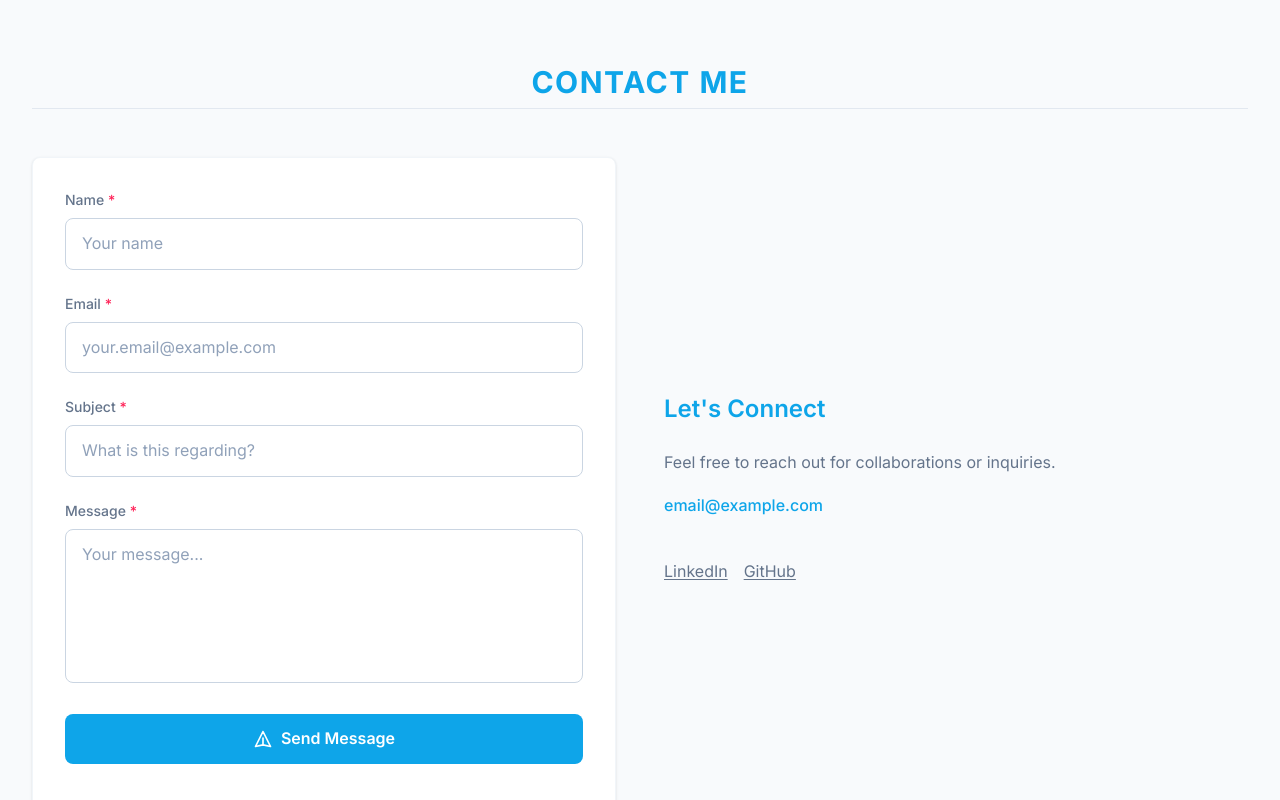
Test: ContactSection Component › shows error state after failed submission
Type "John Doe" into the field labelled "Name *" at (324, 244), box [65, 218, 583, 270]
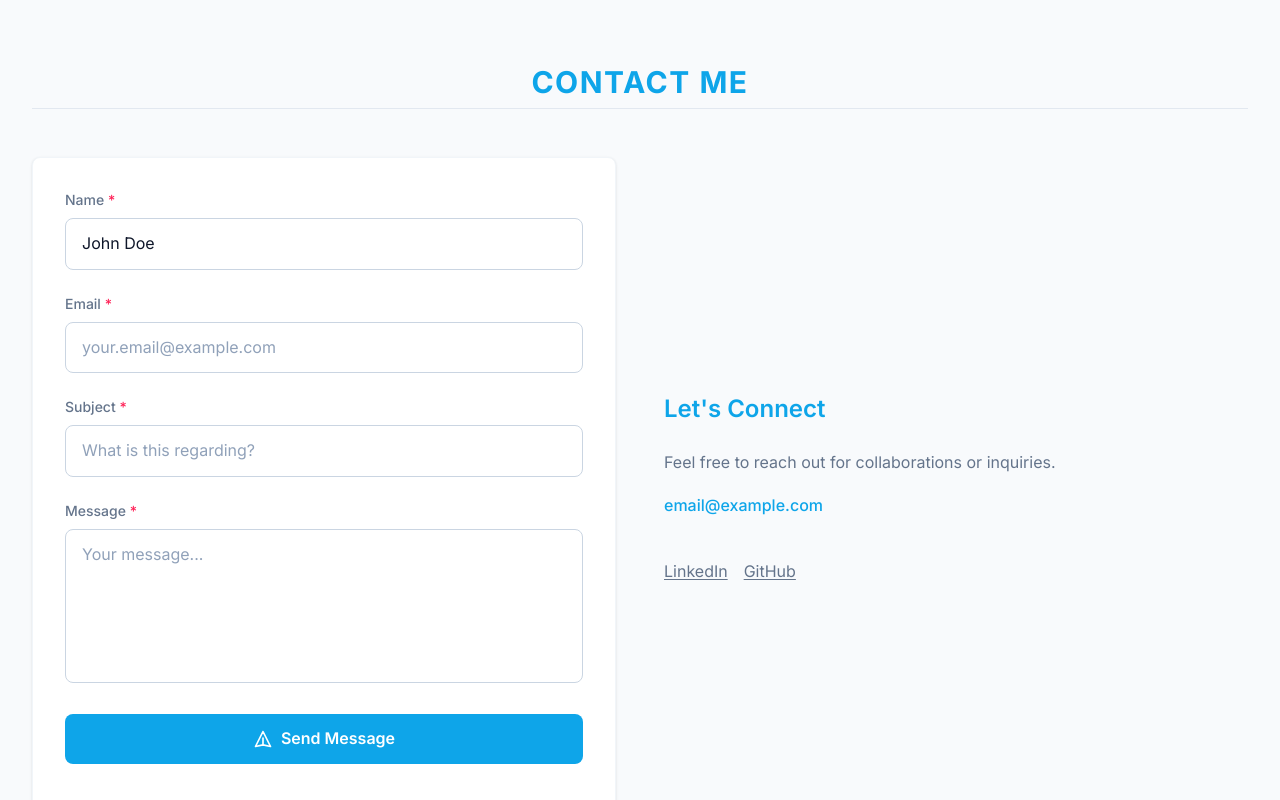
Type "john@example.com" into the field labelled "Email *" at (324, 347), box [65, 322, 583, 373]
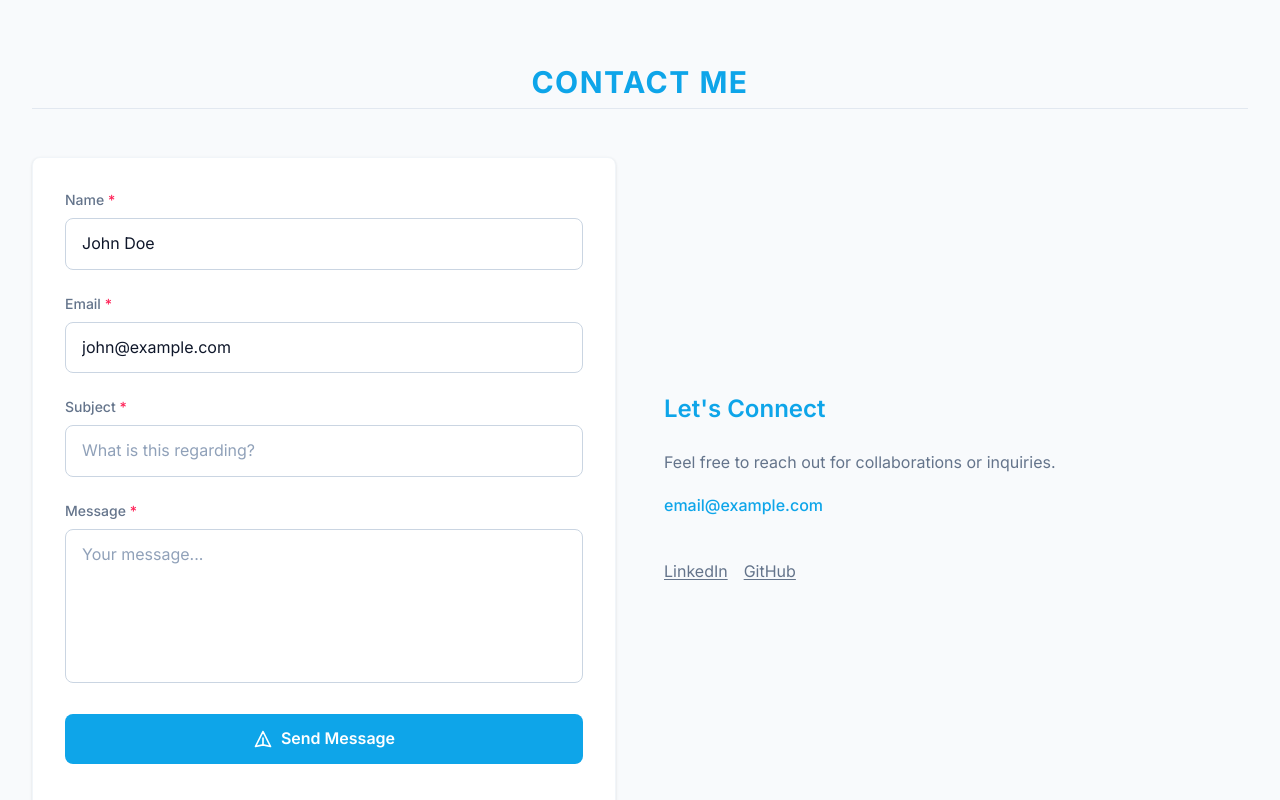
Type "Test" into the field labelled "Subject *" at (324, 451), box [65, 425, 583, 477]
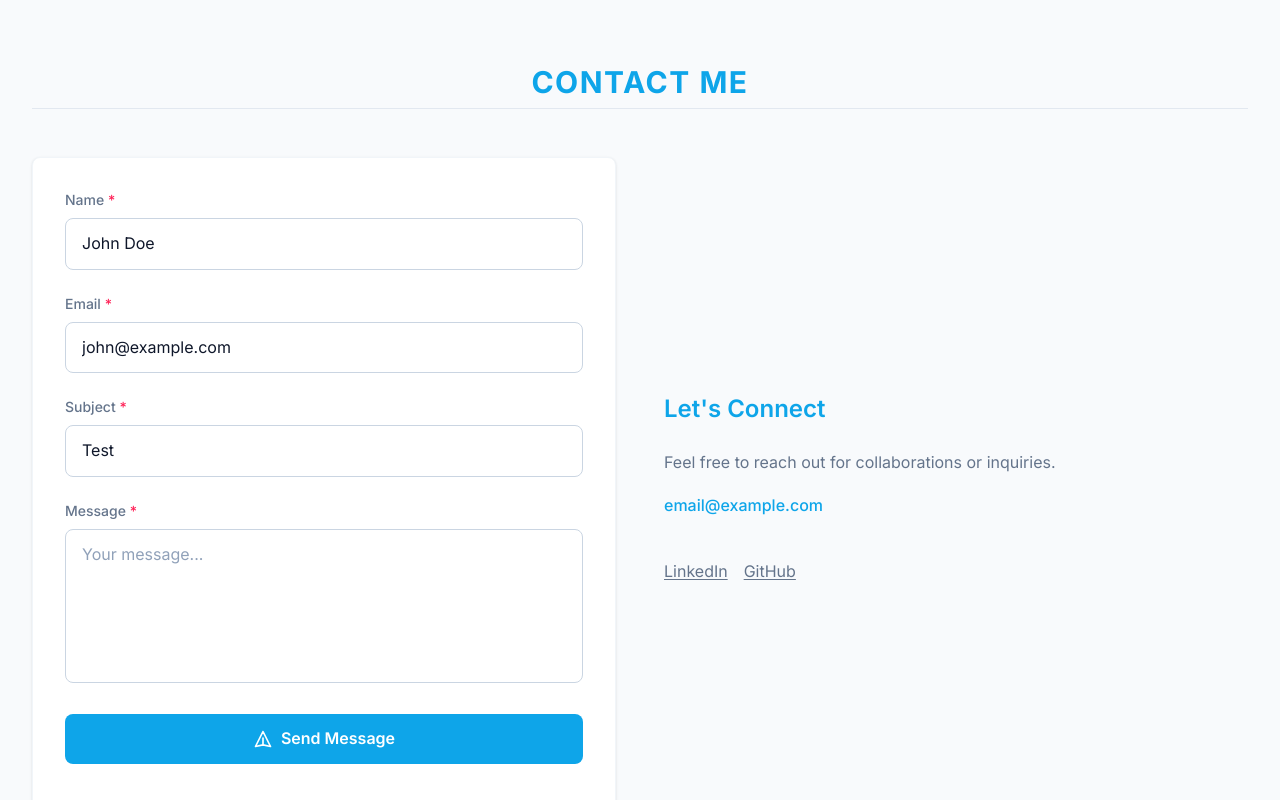
Type "Test message content" into the text box labelled "Message *" at (324, 606), box [65, 529, 583, 683]
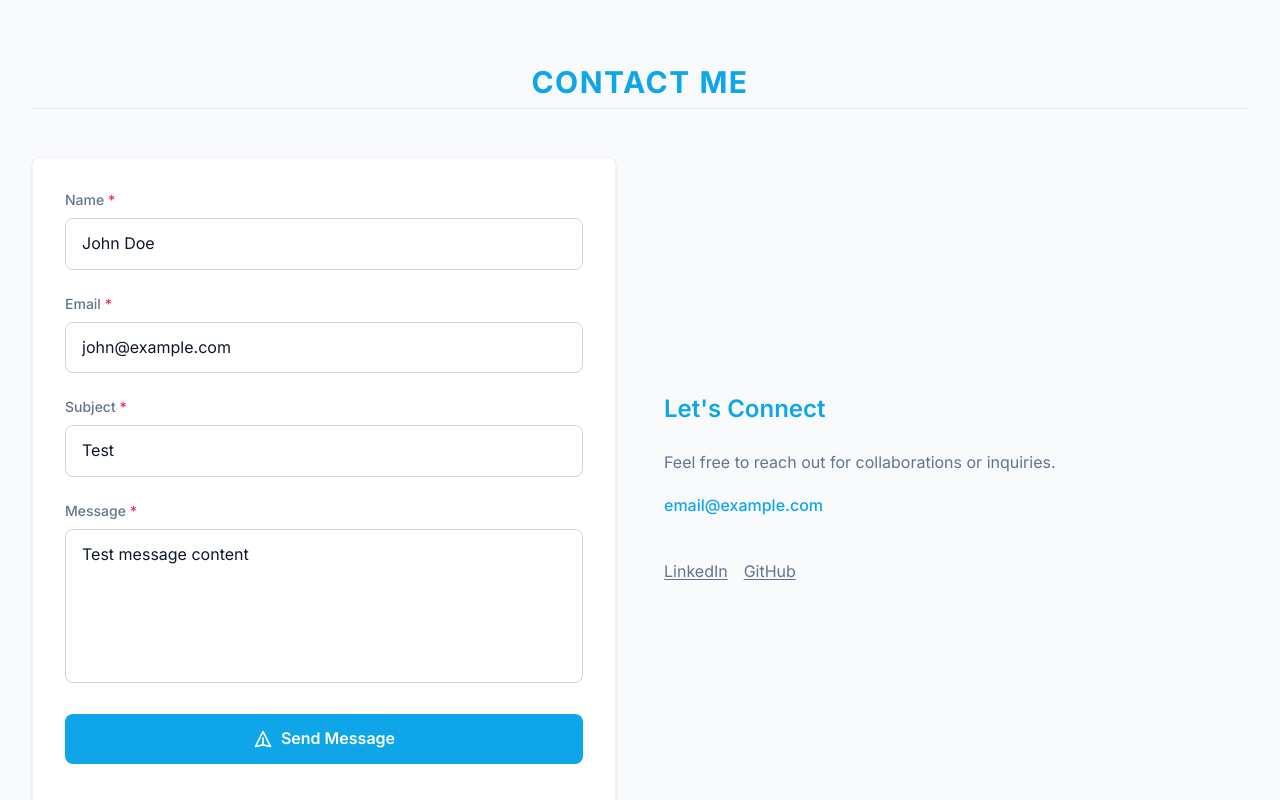
Click the button "Send Message" at (324, 739), box [65, 714, 583, 764]
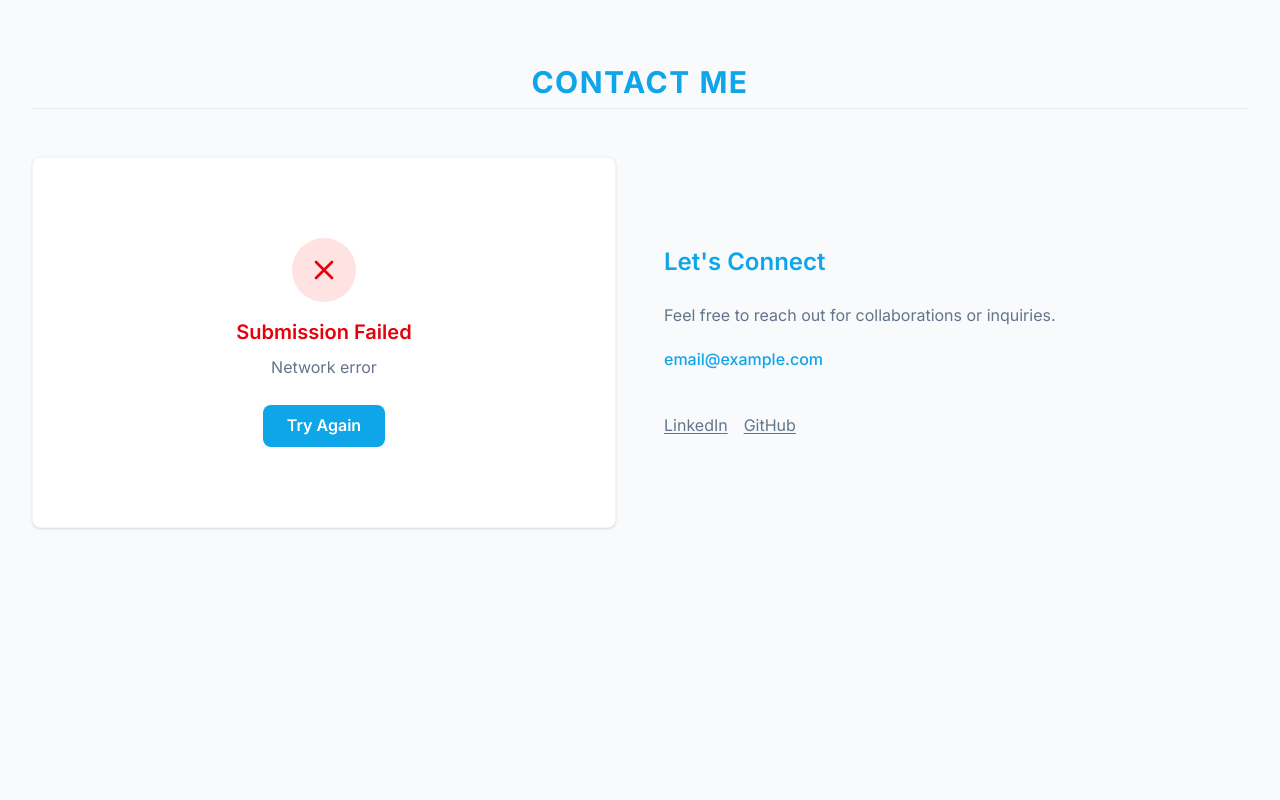
Expected: the heading "Submission Failed" is shown, [236, 320, 412, 344]
Expected: the text "Network error" is shown, [271, 357, 377, 377]
